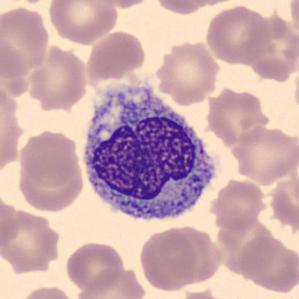Monocyte: (76, 82, 222, 230)
RBC: (153, 38, 221, 105), (24, 42, 90, 110), (204, 3, 272, 65), (229, 124, 298, 185), (16, 126, 83, 188), (16, 154, 86, 213), (137, 225, 198, 292), (0, 208, 60, 276), (0, 3, 51, 78), (202, 86, 266, 143), (245, 16, 299, 83), (240, 235, 297, 295), (45, 0, 120, 45), (207, 176, 267, 232), (64, 239, 126, 292), (84, 29, 148, 80), (71, 266, 148, 299), (0, 94, 22, 170), (0, 196, 21, 254), (151, 0, 227, 15), (17, 284, 77, 299), (163, 0, 249, 8), (88, 0, 156, 9), (177, 288, 232, 299), (287, 0, 299, 41), (292, 62, 299, 123)
